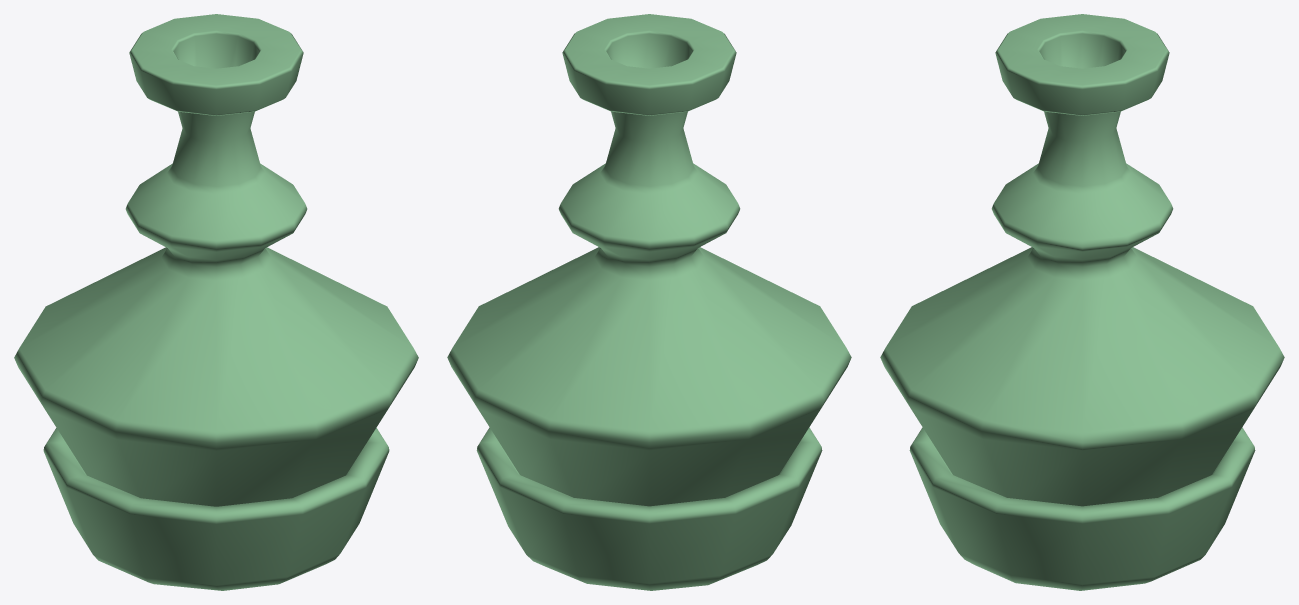
The model's file is SM_Potion_04_Unity.fbx.
3 renders of one model, left to right at view 1: azimuth 30°, elevation 25°; view 2: azimuth 150°, elevation 25°; view 3: azimuth 270°, elevation 25°, orthographic.
Visible parts, largest first — view 1: SM_Potion_04, sM_Potion_04_metal_low; view 2: SM_Potion_04, sM_Potion_04_metal_low; view 3: SM_Potion_04, sM_Potion_04_metal_low.
Part boxes in pixels (bbox=[...]): SM_Potion_04: bbox=[14, 14, 418, 506]; sM_Potion_04_metal_low: bbox=[43, 428, 389, 590]; SM_Potion_04: bbox=[447, 14, 851, 506]; sM_Potion_04_metal_low: bbox=[476, 427, 822, 590]; SM_Potion_04: bbox=[880, 14, 1284, 506]; sM_Potion_04_metal_low: bbox=[909, 427, 1255, 590].
Size of the model in its own units: 10.73 by 14.38 by 10.73.
